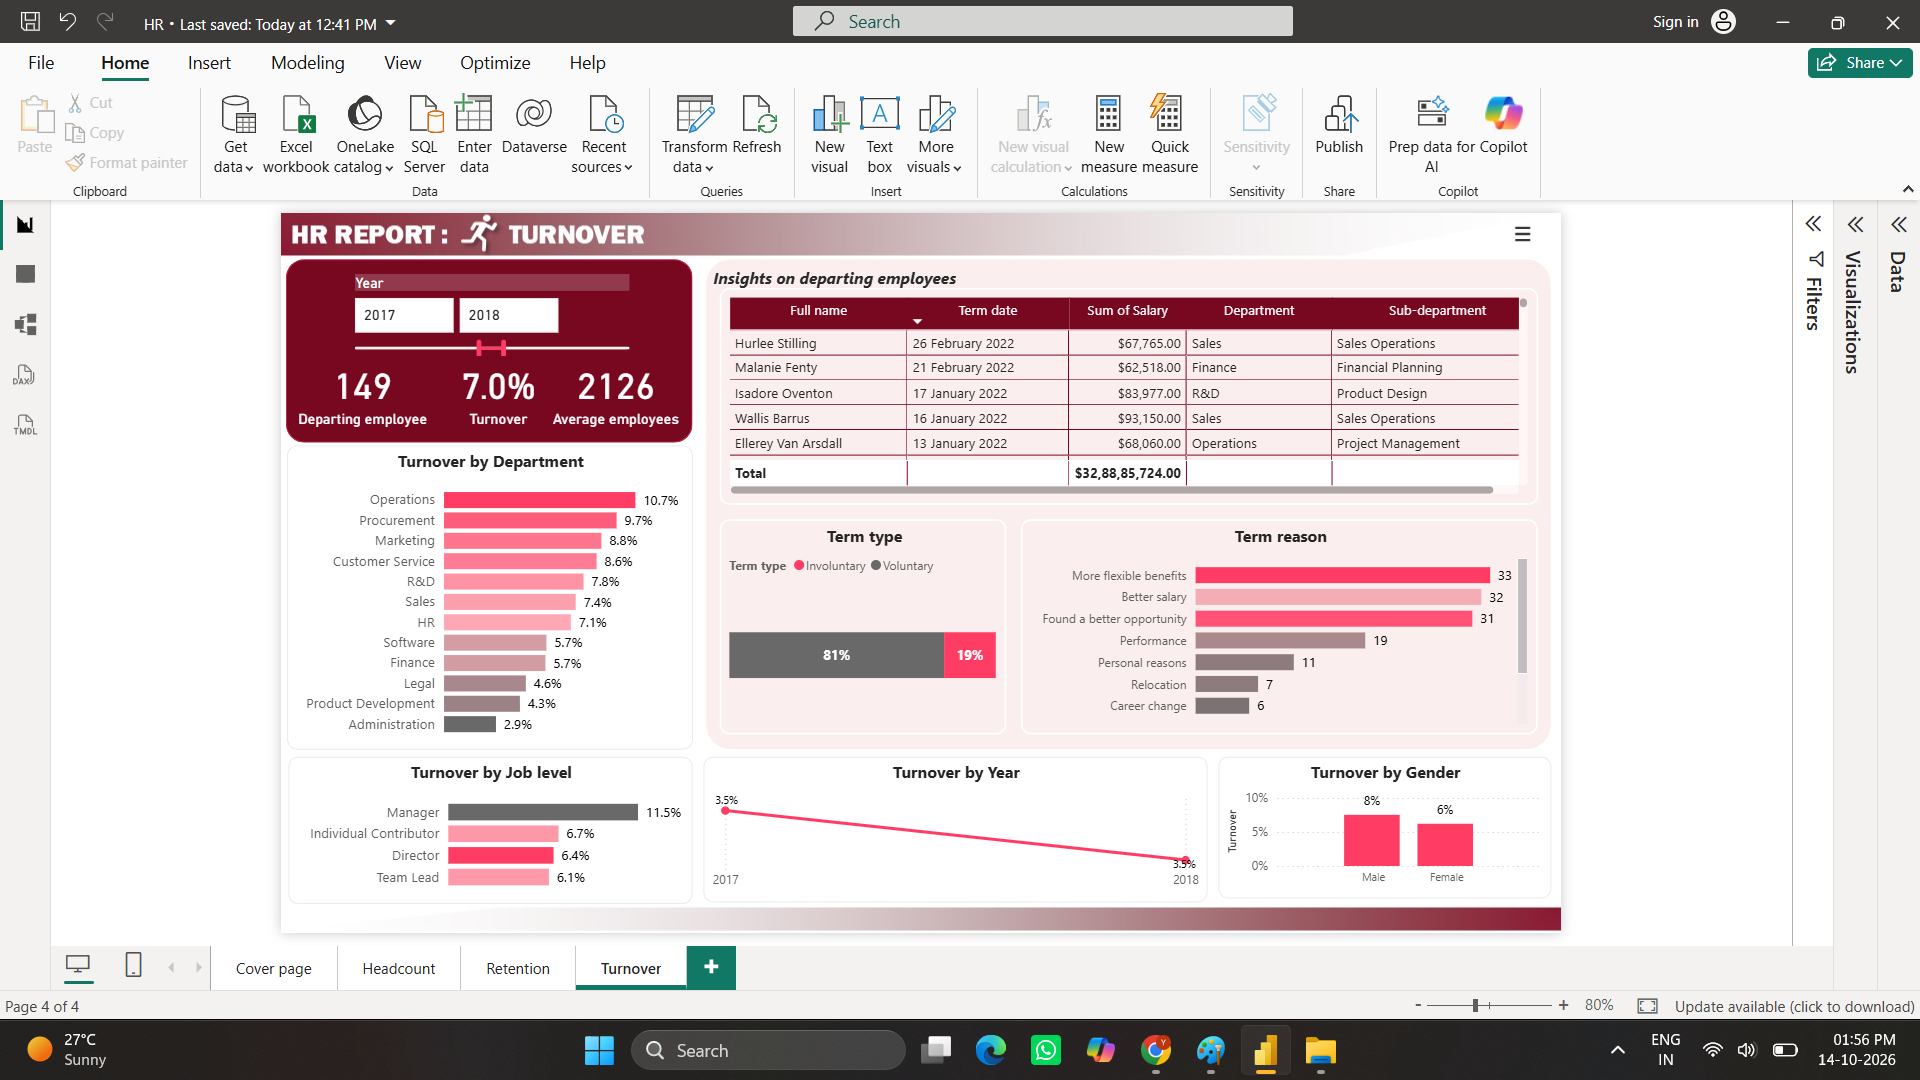

The page's visual inventory and layout, read from the dashboard file:
{"tool":"powerbi","page":{"name":"Turnover","canvas":[1280,720],"ordinal":3},"visuals":[{"type":"shape","box":[425,46.2,845,490],"z":0},{"type":"shape","box":[4.8,45.8,406.6,183.4],"z":1000},{"type":"card","fields":{"Values":["_measure.Turnover"]},"box":[141.2,137.5,152.5,82.5],"z":2000},{"type":"slicer","fields":{"Values":["_Dates (Big).Year"]},"box":[61.7,56.7,300,101.7],"z":3000},{"type":"card","fields":{"Values":["_measure.Departing employee"]},"box":[10.9,137.5,141.2,82],"z":4000},{"type":"card","fields":{"Values":["_measure.Average employees"]},"box":[265.4,137.5,139.9,82],"z":5000},{"type":"clusteredBarChart","fields":{"Category":["Job level_table.Job level"],"Y":["_measure.Turnover"]},"box":[7.1,544.3,404.3,147.1],"z":6000},{"type":"barChart","fields":{"Category":["Department_table.Department"],"Y":["_measure.Turnover"]},"box":[5.7,232.9,405.7,304.3],"z":7000},{"type":"lineChart","fields":{"Category":["_Dates (Big).Year"],"Y":["_measure.Turnover"]},"box":[422.9,544.3,504.3,145.7],"z":8000},{"type":"tableEx","fields":{"Values":["Main_table.Full name","Main_table.Term date","Sum(Main_table.Salary)","Department_table.Department","Department_table.Sub-department"]},"box":[438.3,75,818.3,216.7],"z":9000},{"type":"hundredPercentStackedBarChart","title":"Term type","fields":{"Y":["_measure.Departing employee"],"Series":["Term_table.Term type"]},"box":[438.3,306.7,286.7,215],"z":10000},{"type":"columnChart","title":"Term reason ","fields":{"Category":["Term_table.Term reason"],"Y":["_measure.Departing employee"]},"box":[740,306.7,516.7,215],"z":11000},{"type":"donutChart","title":"Turnover by Gender","fields":{"Category":["Demographic_table.Gender"],"Y":["_measure.Turnover"]},"box":[937.1,544.3,332.9,141.4],"z":12000},{"type":"actionButton","box":[1204,0,76,39.8],"z":13000}]}

Visuals, with their boxes on the page's 1280x720 design canvas (x1, y1, x2, y2). These are canvas units, not pixel positions in the 1920x1080 screenshot, which may show the page scaled, cropped or inside an application window:
shape: bbox(425, 46, 1270, 536)
shape: bbox(5, 46, 411, 229)
card - _measure.Turnover: bbox(141, 138, 294, 220)
slicer - _Dates (Big).Year: bbox(62, 57, 362, 158)
card - _measure.Departing employee: bbox(11, 138, 152, 220)
card - _measure.Average employees: bbox(265, 138, 405, 220)
clusteredBarChart - Job level_table.Job level x _measure.Turnover: bbox(7, 544, 411, 691)
barChart - Department_table.Department x _measure.Turnover: bbox(6, 233, 411, 537)
lineChart - _Dates (Big).Year x _measure.Turnover: bbox(423, 544, 927, 690)
tableEx - Main_table.Full name x Main_table.Term date: bbox(438, 75, 1257, 292)
"Term type" hundredPercentStackedBarChart: bbox(438, 307, 725, 522)
"Term reason " columnChart: bbox(740, 307, 1257, 522)
"Turnover by Gender" donutChart: bbox(937, 544, 1270, 686)
actionButton: bbox(1204, 0, 1280, 40)
